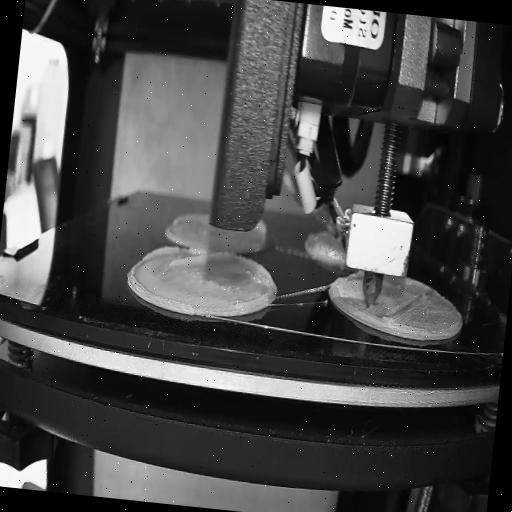over_extrusion: (140, 240, 230, 276), (234, 255, 278, 295)
